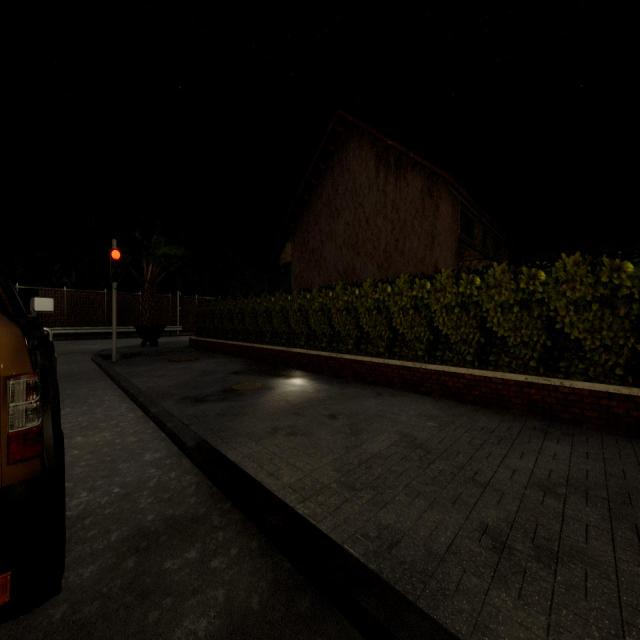Vehicle: (0, 276, 66, 618)
traffic_light: (110, 248, 120, 281), (178, 294, 183, 308)
